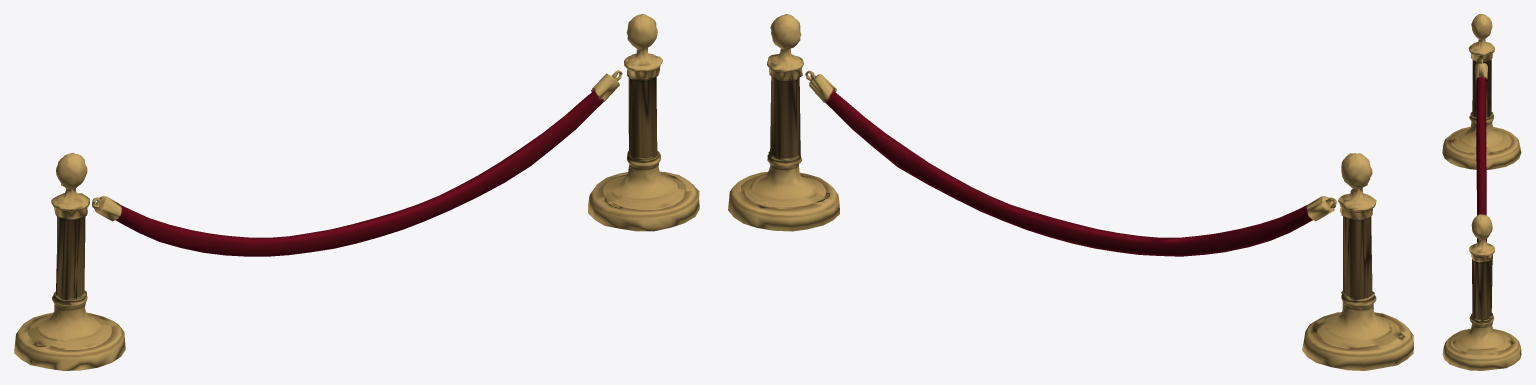
File: barrier.obj
3 views of the same model, side by side, from view 1: azimuth 30°, elevation 25°; view 2: azimuth 150°, elevation 25°; view 3: azimuth 270°, elevation 25° (orthographic). The views are drawn at different scales.
Parts seen in each view (by area): view 1: Meshy_AI_Velvet_rope_barrier_0716191610_texture; view 2: Meshy_AI_Velvet_rope_barrier_0716191610_texture; view 3: Meshy_AI_Velvet_rope_barrier_0716191610_texture.
Part boxes in pixels (box(x1,y1,x2,y2)): Meshy_AI_Velvet_rope_barrier_0716191610_texture: box(14, 14, 699, 370); Meshy_AI_Velvet_rope_barrier_0716191610_texture: box(728, 14, 1413, 370); Meshy_AI_Velvet_rope_barrier_0716191610_texture: box(1442, 14, 1521, 370).
Bounding box in the file's own units: 0.9941 × 0.2744 × 0.1411.
Materials: 1 (1 with a texture image).
